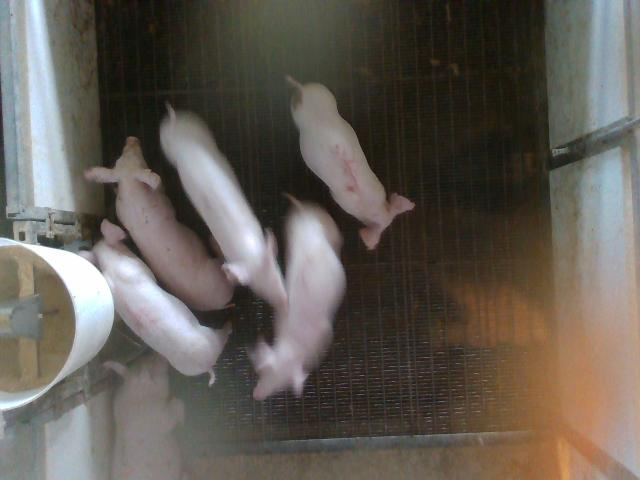pig-4: (79, 220, 230, 382)
pig-5: (287, 76, 415, 249)
